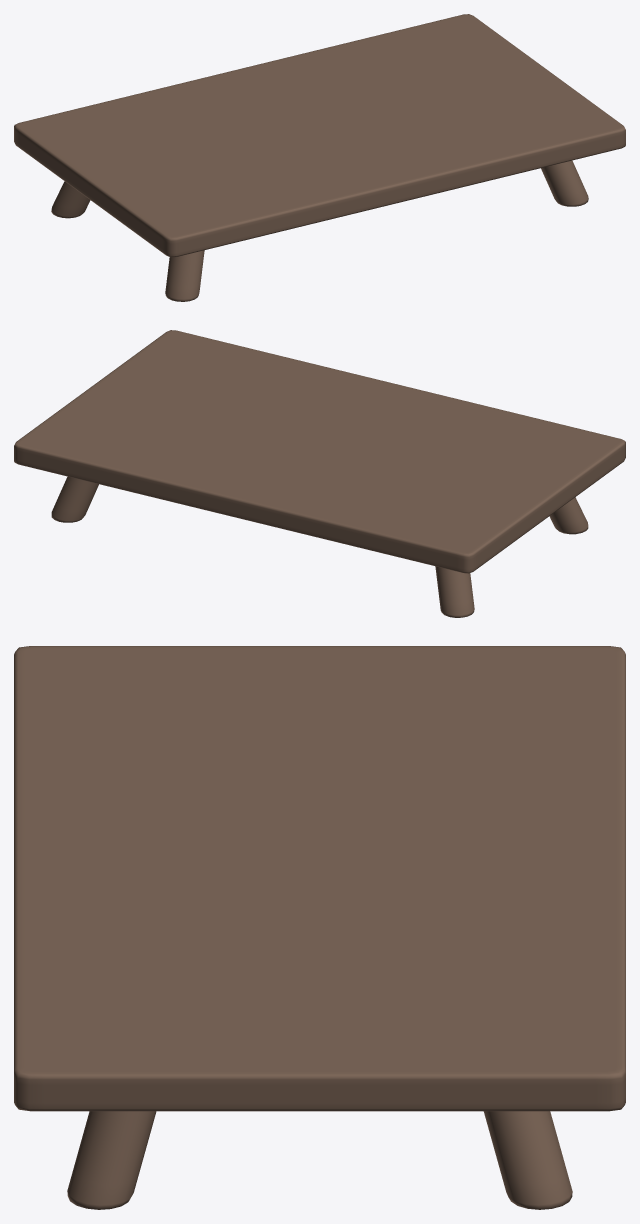
File: table.fbx
3 renders of one model, top to bottom at view 1: azimuth 30°, elevation 25°; view 2: azimuth 150°, elevation 25°; view 3: azimuth 270°, elevation 25°, orthographic. The views are drawn at different scales.
Parts seen in each view (by area): view 1: table1; view 2: table1; view 3: table1.
Boxes of the visible parts, x1=… form: table1: x1=14, y1=14, x2=625, y2=301; table1: x1=14, y1=330, x2=625, y2=617; table1: x1=14, y1=646, x2=625, y2=1209.
Size of the model in its own units: 25 by 4.18 by 15.
